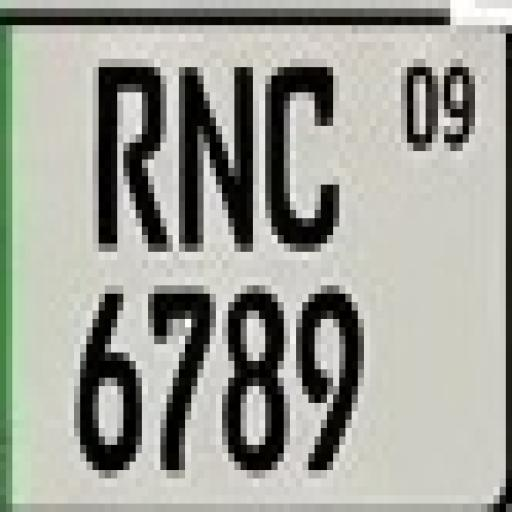6: (78, 279, 144, 483)
7: (148, 279, 215, 481)
8: (218, 291, 288, 476)
9: (292, 282, 365, 479)
C: (265, 56, 346, 252)
N: (175, 55, 256, 257)
R: (90, 59, 171, 254)
